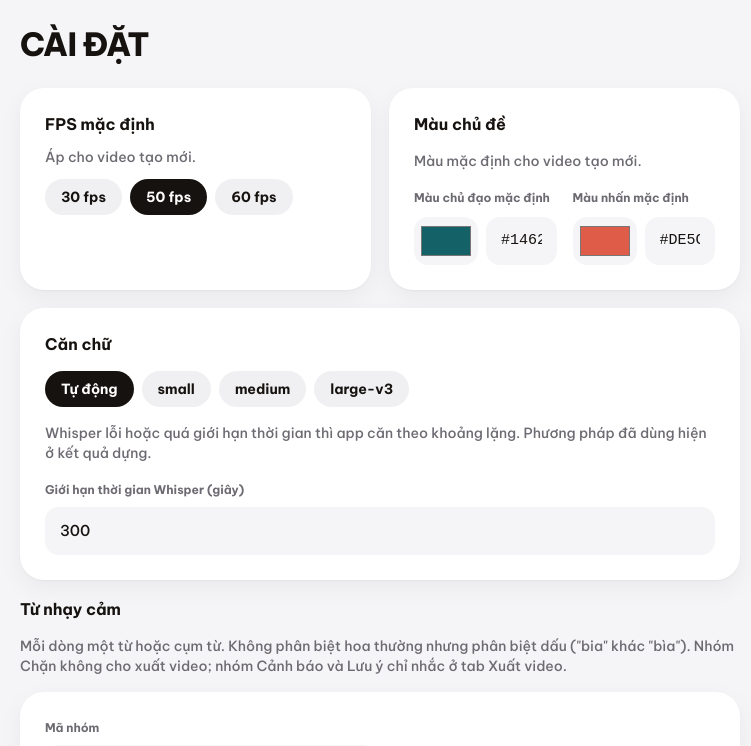
Cài đặt: các thẻ › saves nothing until Lưu, then sends both settings and the word list
Click the button "60 fps".
click(254, 197)  # box [215,179,293,215]
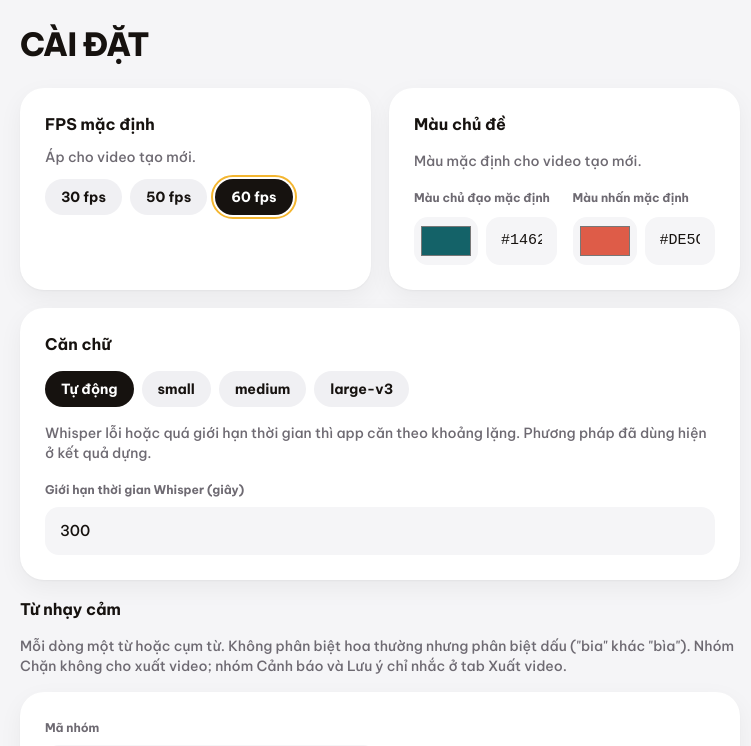
Click the button "small".
click(176, 389)  # box [142,371,211,407]
(page scrolled)
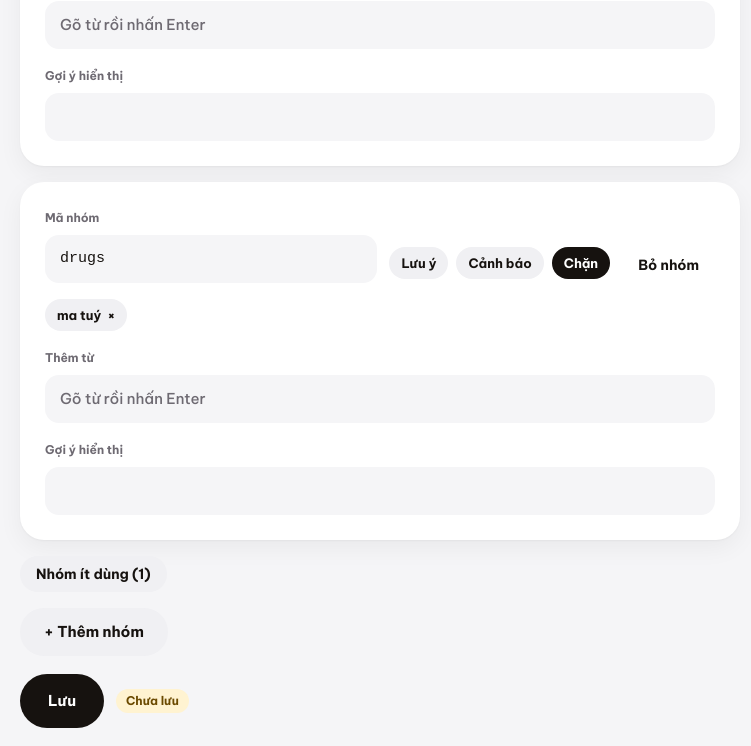
Result: the text "Chưa lưu" is shown at [116,689,189,713]
Click the button "Lưu".
click(62, 701)  # box [20,674,104,728]
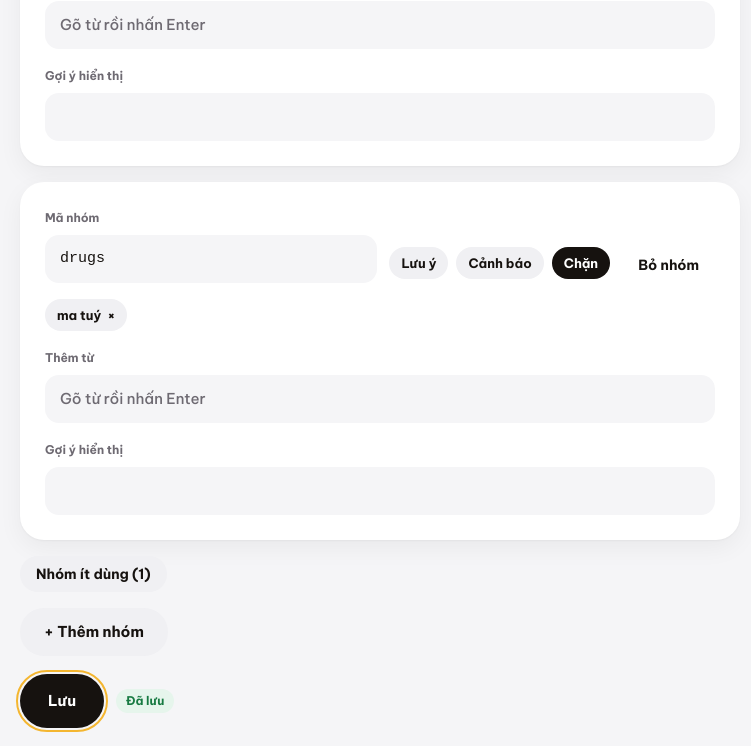
Result: the text "Đã lưu" is shown at [116,689,174,713]
